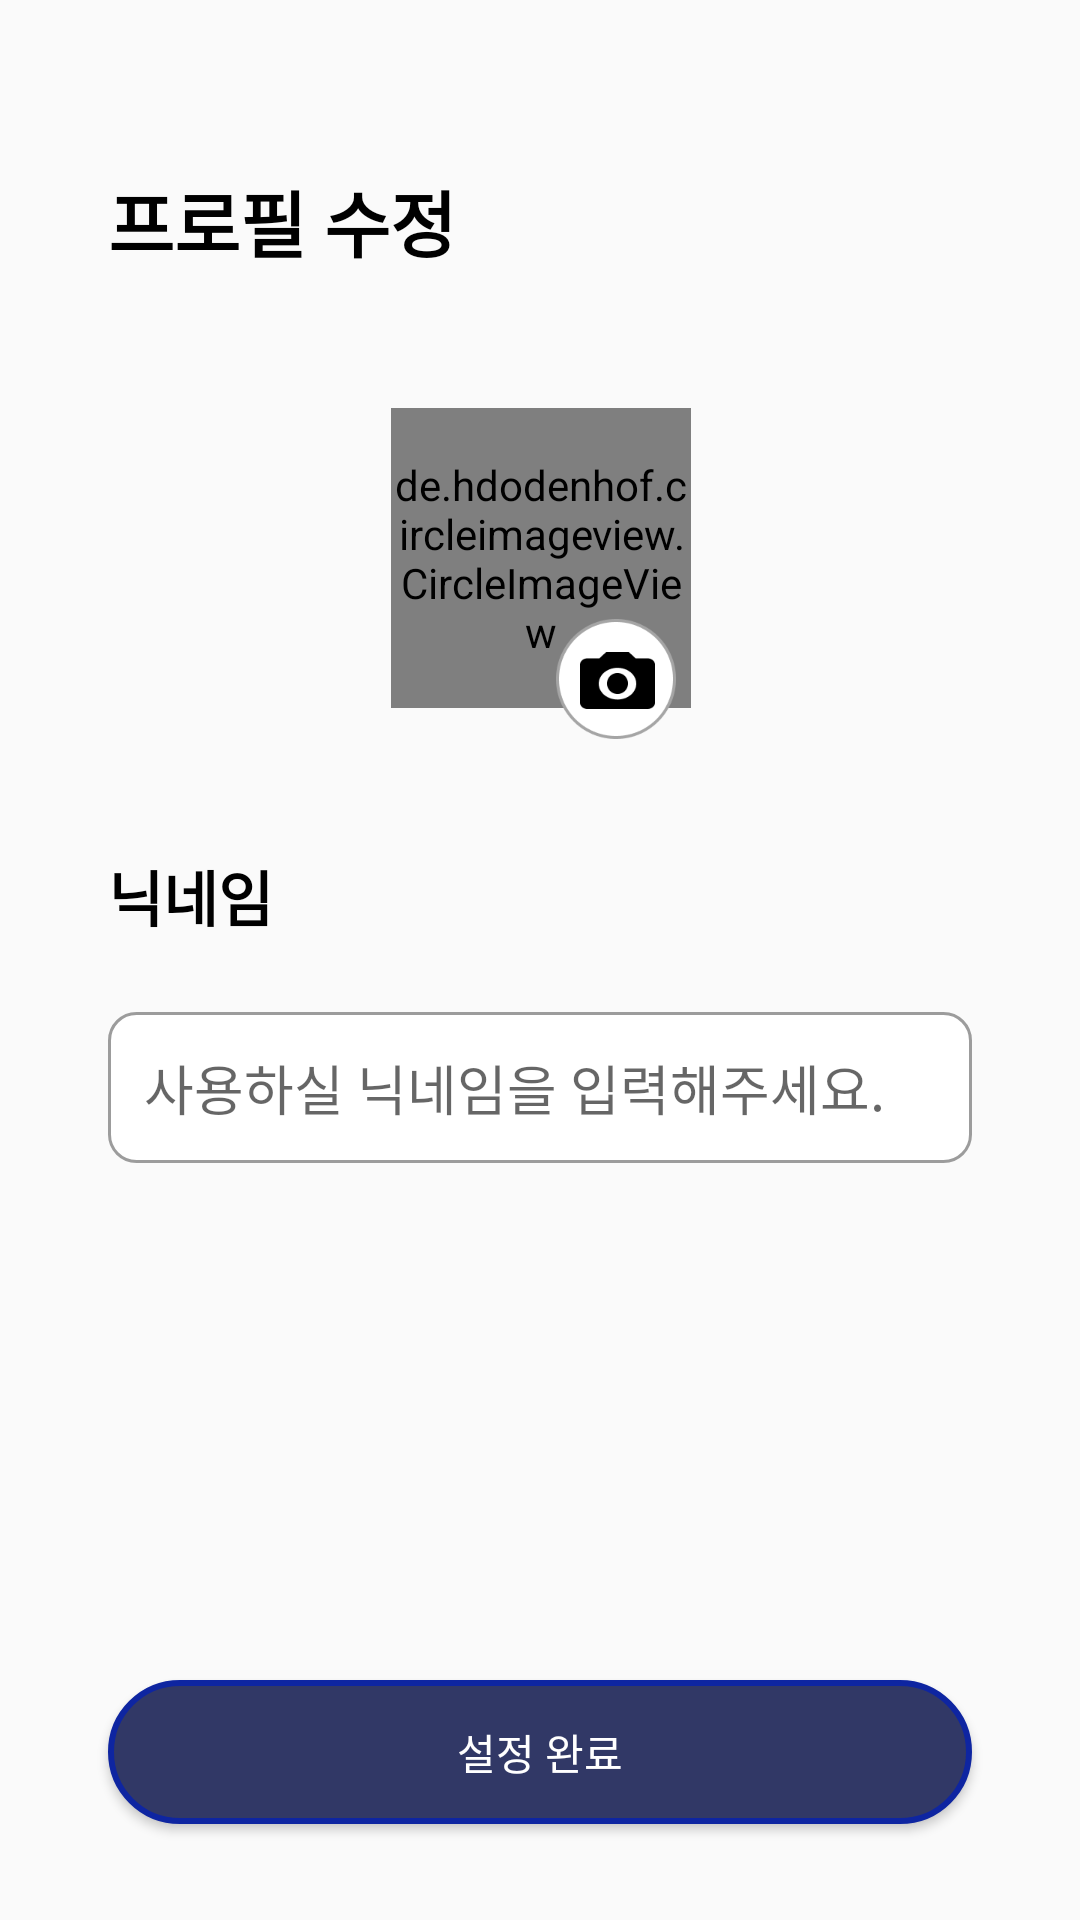

Point at icon controls on the screen. Image size 1080 × 1920, points as [x,y].
camera: [616,679]
